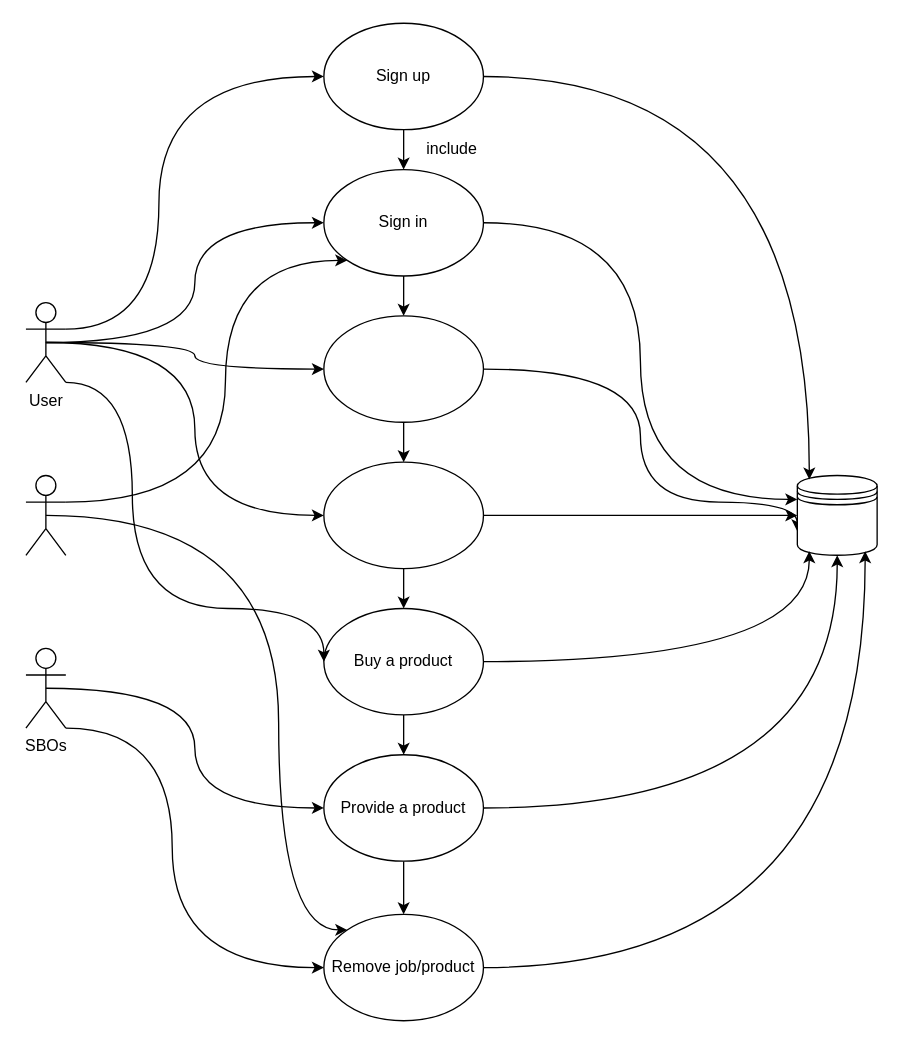
Some shapes in this 900 by 1044 pixel diagram are drawn without their labels. Each missing label, with the centre of its shape:
"Admin" goes at (45,514).
"Apply a job" goes at (403,515).
"DB" goes at (836,514).
"Search a job/product" goes at (403,368).
